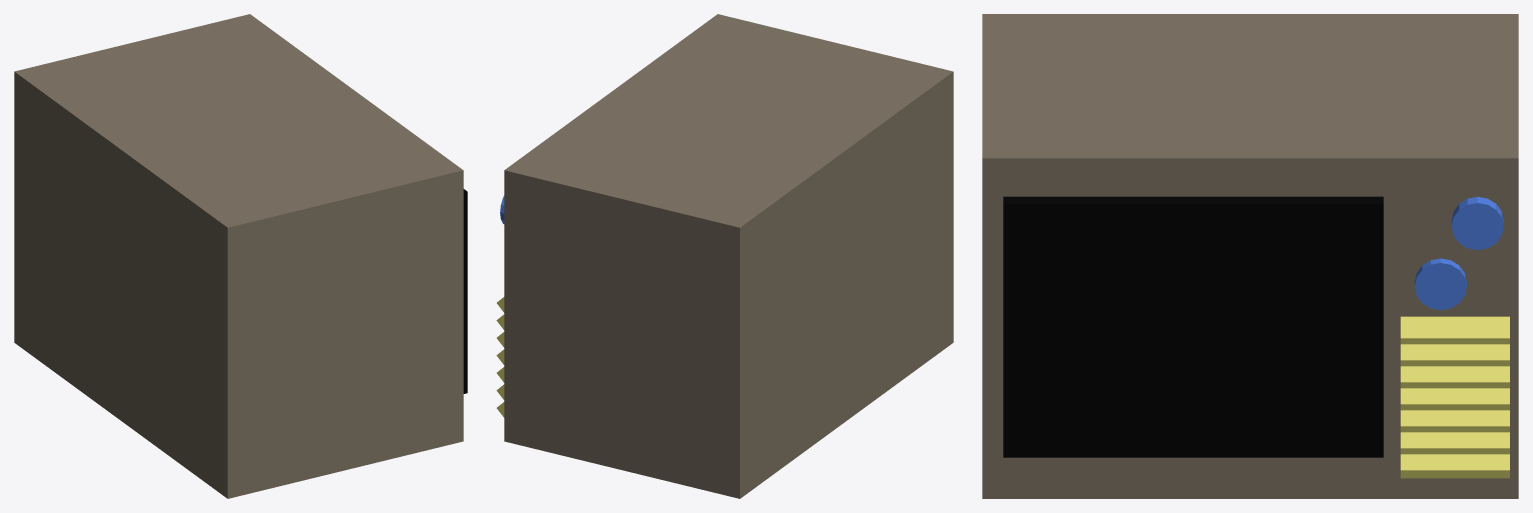
3 views of the same model, side by side, from view 1: azimuth 30°, elevation 25°; view 2: azimuth 150°, elevation 25°; view 3: azimuth 270°, elevation 25° (orthographic). The views are drawn at different scales.
Visible parts, largest first — view 1: TV, Cube.001; view 2: TV; view 3: TV, Cube.001.
Boxes of the visible parts, bbox=[...] form: TV: bbox=[14, 14, 463, 498]; Cube.001: bbox=[463, 189, 467, 393]; TV: bbox=[496, 14, 953, 498]; TV: bbox=[982, 14, 1518, 498]; Cube.001: bbox=[1003, 196, 1383, 457].
Size of the model in its own units: 68.99 by 72.02 by 103.
